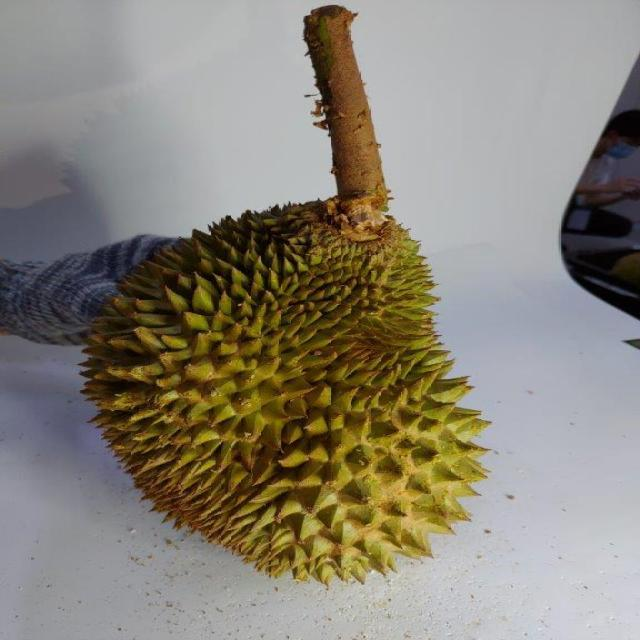immature: (74, 194, 502, 588)
